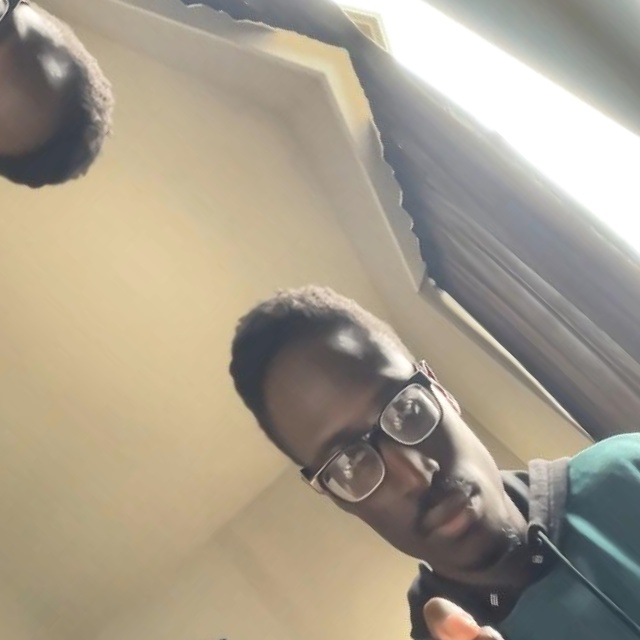Rock: (360, 580, 563, 640)
